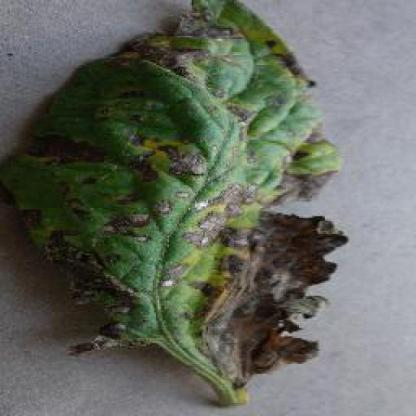Tomato_Blight: (3, 0, 347, 373)
